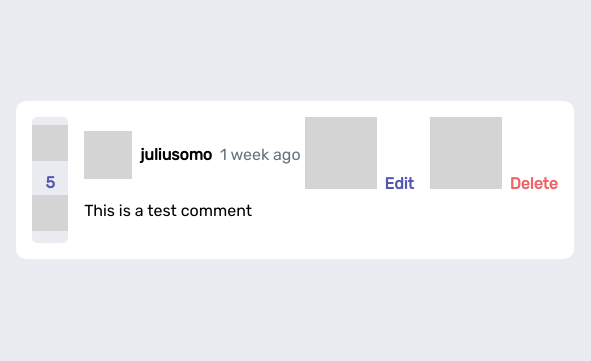
Scenario: Comment Component › Edit Functionality › should show edit form pre-populated with existing content
Click the button "Edit".
click(359, 155)  # box 304,117 -> 414,193
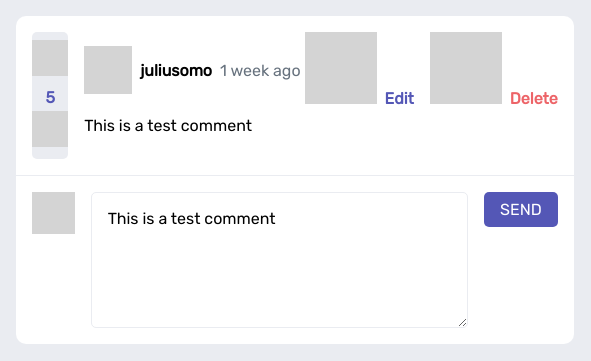
Expected: the text box with placeholder "Add a comment..." holds "This is a test comment", 91,192 -> 468,328
